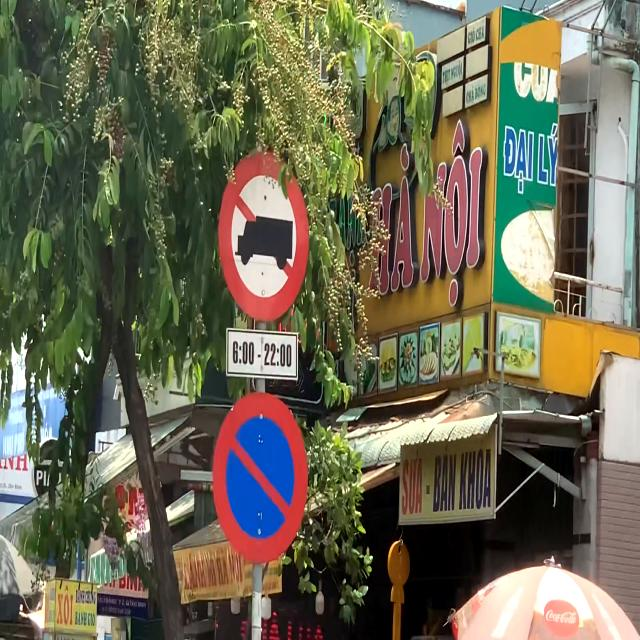P.106a: (218, 148, 310, 321)
P.131a: (212, 390, 309, 565)
